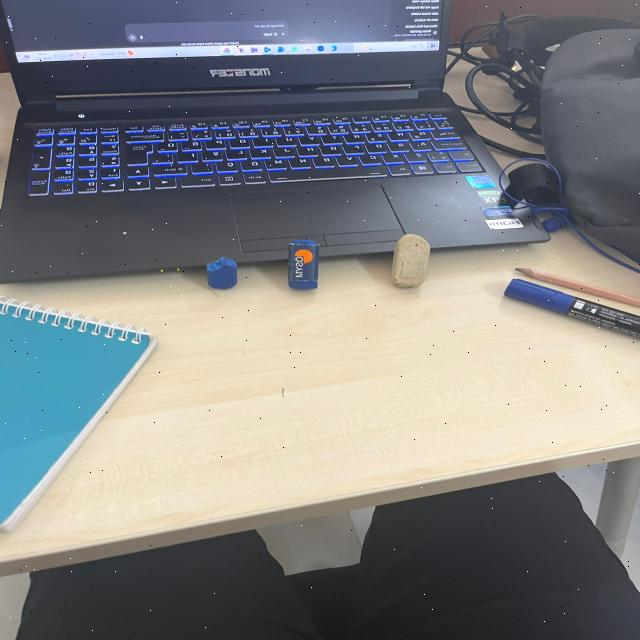eraser: (382, 228, 437, 294), (283, 232, 327, 292), (202, 251, 242, 294)
pencil: (488, 276, 640, 340), (490, 259, 640, 306)
